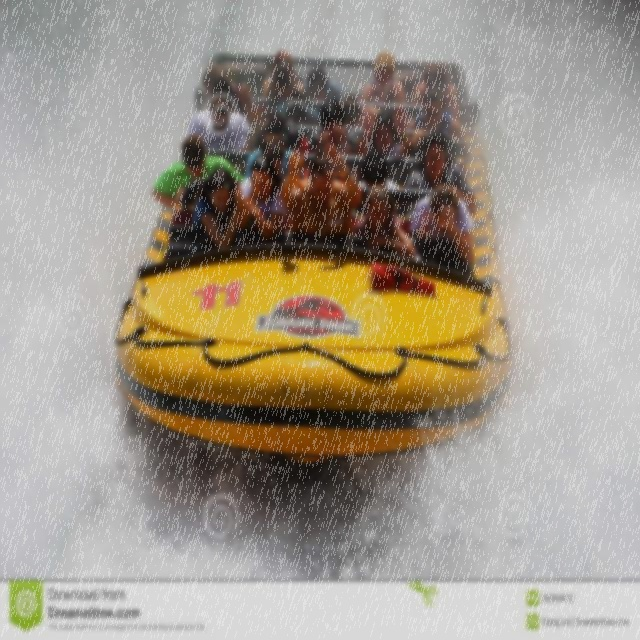pessoa: (278, 142, 362, 235), (150, 132, 247, 208), (403, 128, 478, 218), (192, 166, 258, 253), (409, 183, 474, 267), (236, 154, 288, 258), (353, 183, 416, 260), (184, 80, 251, 152), (402, 126, 464, 202), (246, 108, 305, 182), (303, 98, 360, 172), (203, 80, 261, 152), (404, 85, 466, 141), (354, 102, 412, 160), (411, 61, 461, 124), (360, 49, 406, 107), (262, 48, 305, 98), (300, 64, 347, 108), (272, 86, 321, 128), (358, 148, 401, 190), (303, 147, 347, 183), (258, 132, 286, 180), (285, 115, 311, 153), (340, 96, 362, 131), (202, 64, 226, 96)
